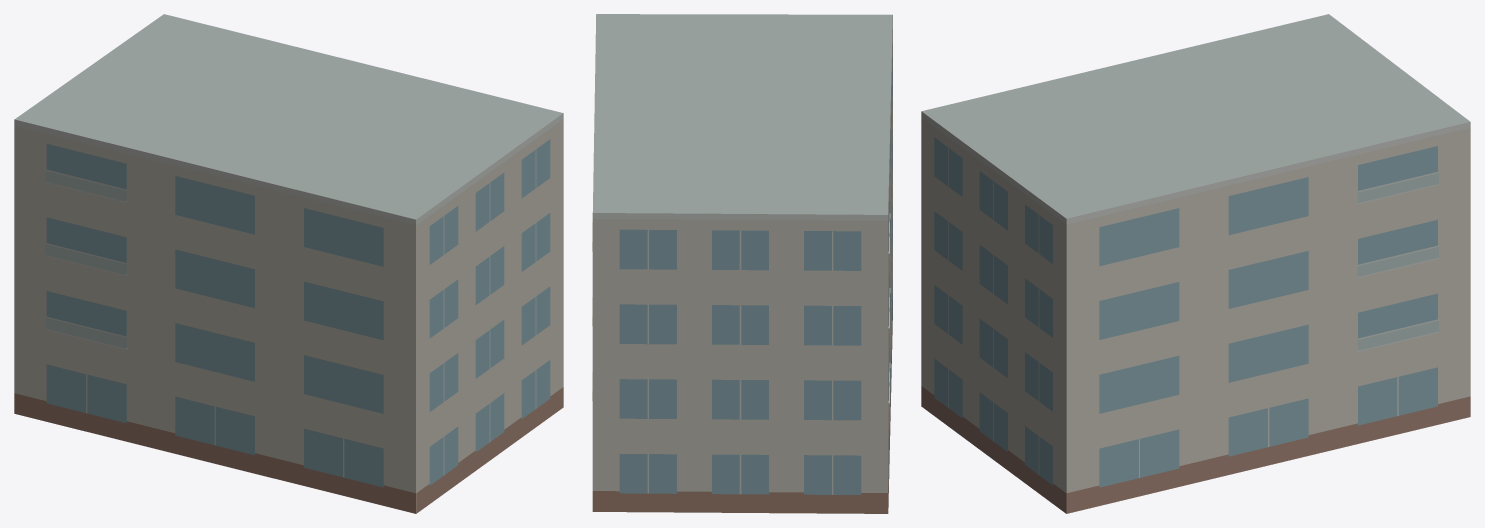
Rendered from survey-upis-32722777.glb.
3 views of the same model, side by side, from view 1: azimuth 30°, elevation 25°; view 2: azimuth 150°, elevation 25°; view 3: azimuth 270°, elevation 25° (orthographic).
Visible parts, largest first — view 1: survey-upis-32722777.tmp; view 2: survey-upis-32722777.tmp; view 3: survey-upis-32722777.tmp.
Boxes of the visible parts, x1=… form: survey-upis-32722777.tmp: x1=14, y1=14, x2=563, y2=513; survey-upis-32722777.tmp: x1=592, y1=14, x2=892, y2=513; survey-upis-32722777.tmp: x1=921, y1=14, x2=1470, y2=513.
Size of the model in its own units: 18.16 by 12.2 by 20.58.
